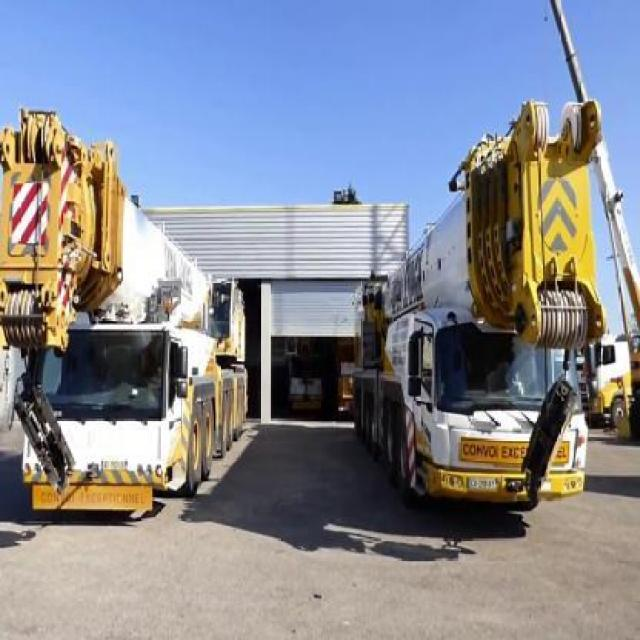Mobile Crane: (341, 100, 596, 502), (1, 108, 245, 512)
